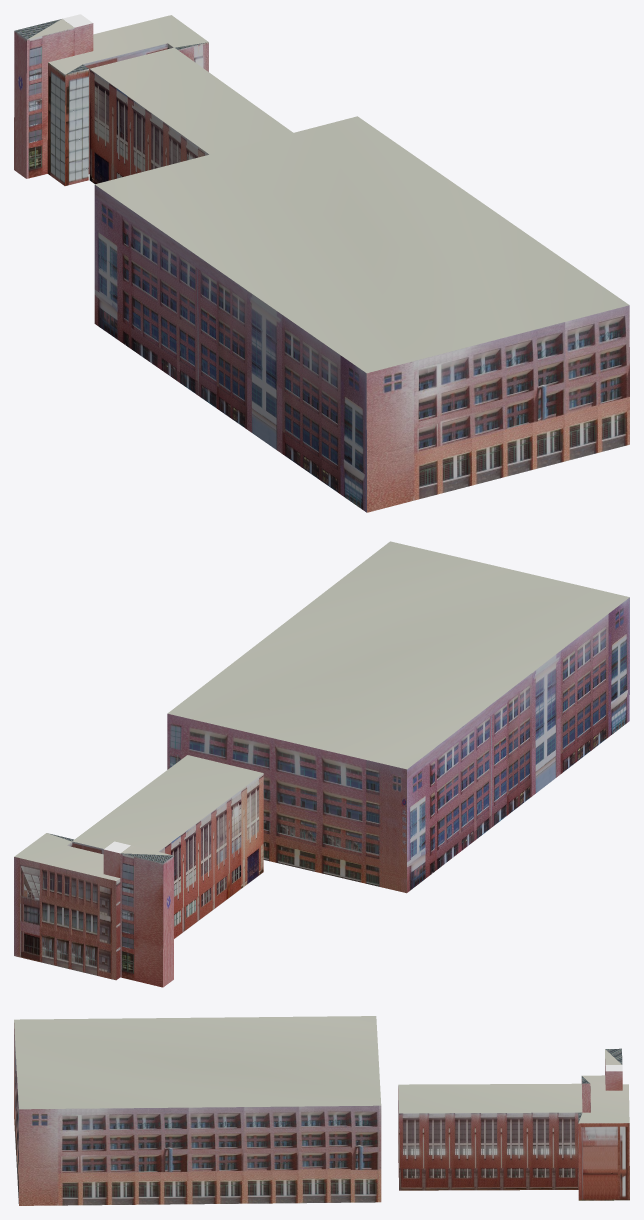
The model's file is jxl_x.gltf.
The picture shows the model from 3 angles, top to bottom: view 1: azimuth 30°, elevation 25°; view 2: azimuth 150°, elevation 25°; view 3: azimuth 270°, elevation 25°; orthographic projection. The views are drawn at different scales.
Parts seen in each view (by area): view 1: Mesh02#7, Mesh04#3, Mesh01#7, Mesh03#7; view 2: Mesh02#7, Mesh01#7, Mesh04#3, Mesh03#7; view 3: Mesh02#7, Mesh04#3, Mesh01#7, Mesh03#7.
Boxes of the visible parts, x1,y1,x2,y2 form: Mesh02#7: [94, 116, 629, 512]; Mesh04#3: [89, 47, 293, 184]; Mesh01#7: [14, 15, 208, 185]; Mesh03#7: [62, 14, 93, 55]; Mesh02#7: [167, 541, 629, 893]; Mesh01#7: [14, 833, 173, 987]; Mesh04#3: [72, 755, 263, 938]; Mesh03#7: [103, 841, 130, 877]; Mesh02#7: [14, 1016, 381, 1205]; Mesh04#3: [398, 1083, 582, 1190]; Mesh01#7: [578, 1048, 629, 1200]; Mesh03#7: [605, 1065, 622, 1090].
Bounding box in the file's own units: 52 × 25.14 × 144.
6 materials, 5 textured.
